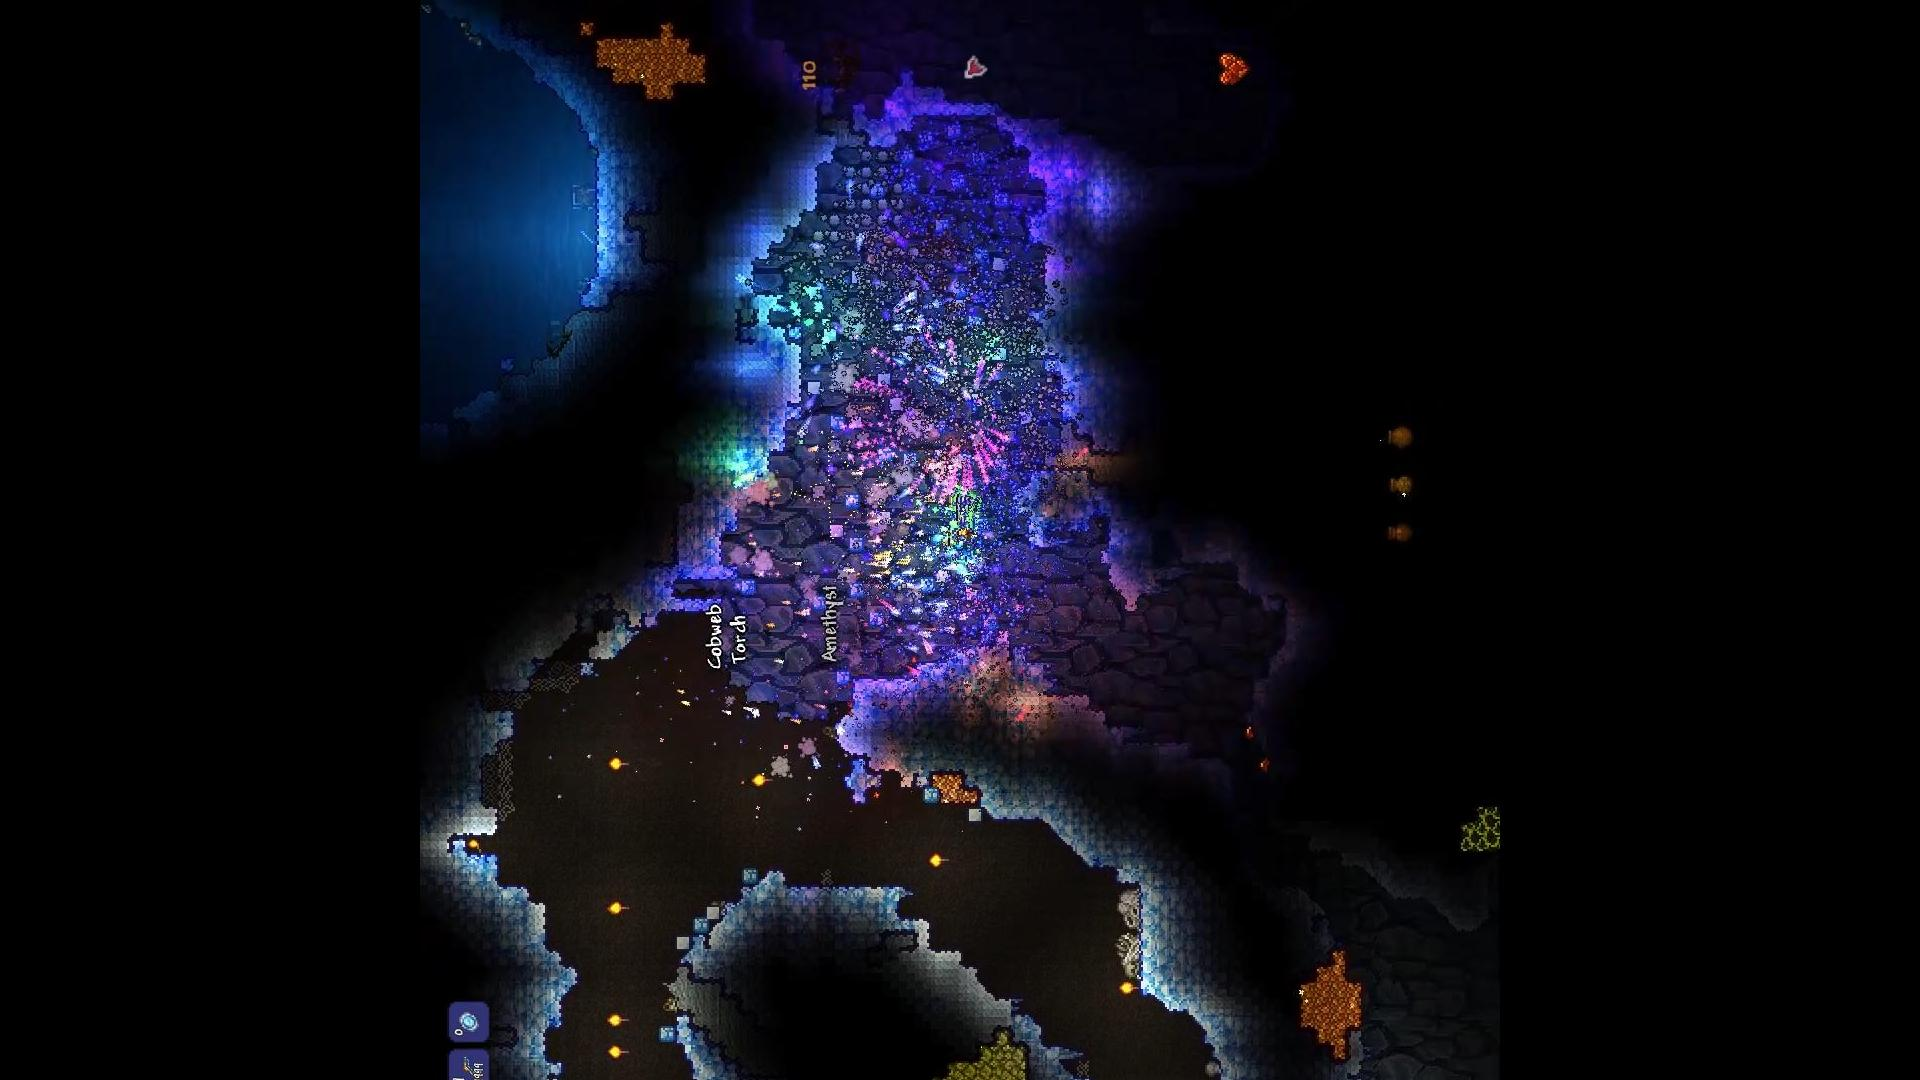lifeC: (1217, 46, 1253, 88)
